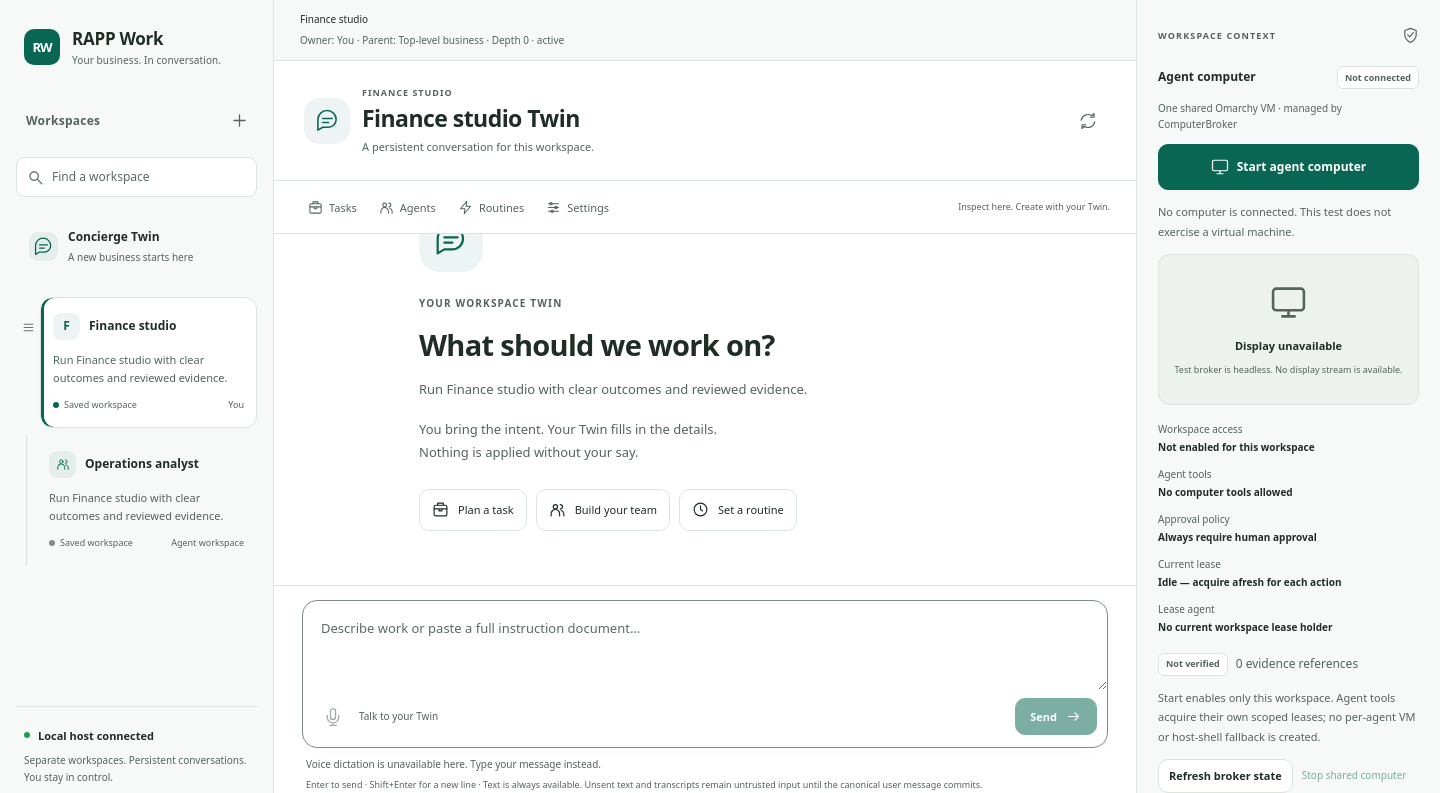
Scenario: conversation-first business workspaces › drafts and prefills Create an agent for finance reviews.
(page scrolled)
Expected: the text "Local host connected" is shown, x1=38 y1=727 x2=154 y2=744
In the text box named "Message your Work Twin": (705, 645) x1=303 y1=601 x2=1107 y2=690, type "Create an agent for finance reviews."
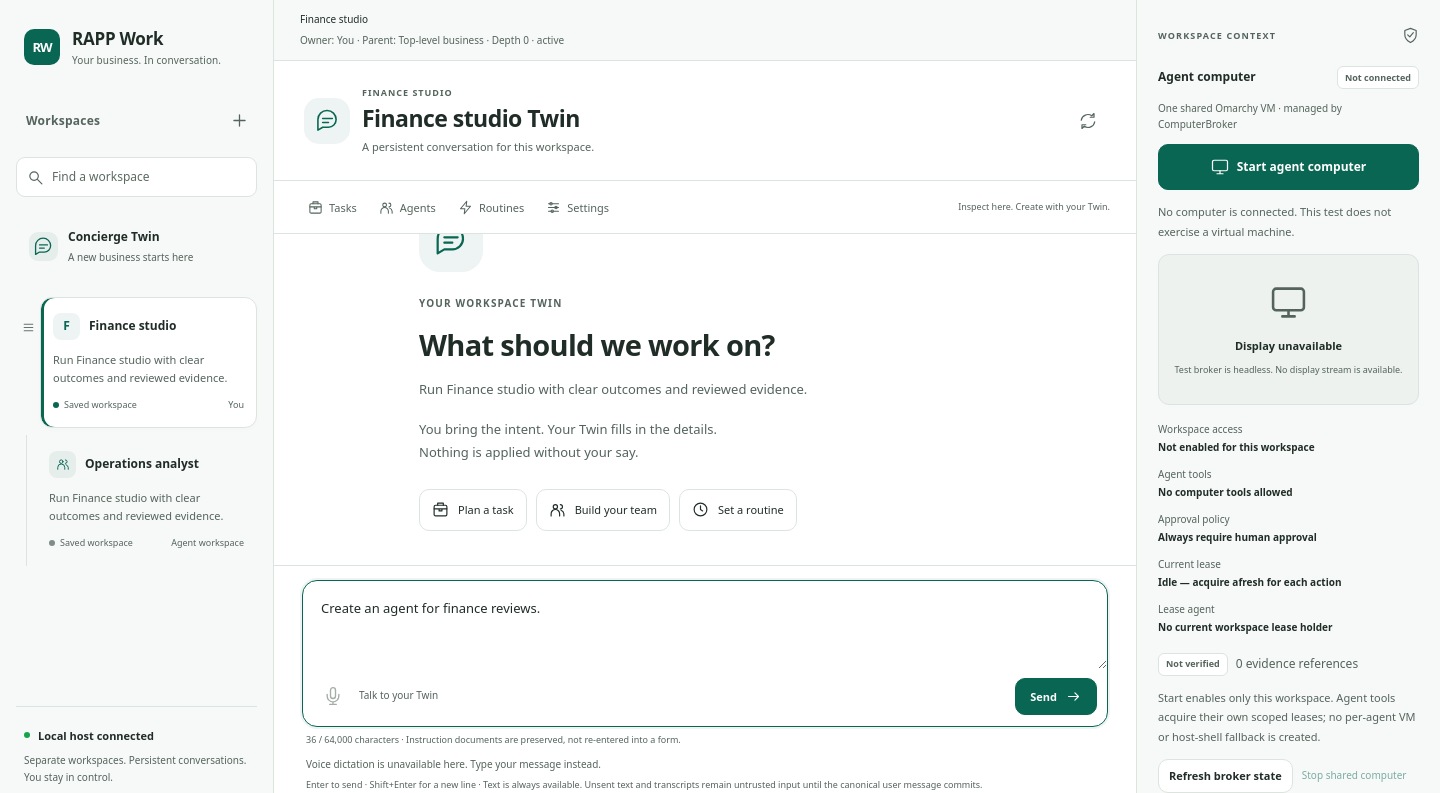
Expected: the button "Send" is enabled
Click the button "Send": (1056, 696) x1=1015 y1=678 x2=1097 y2=715
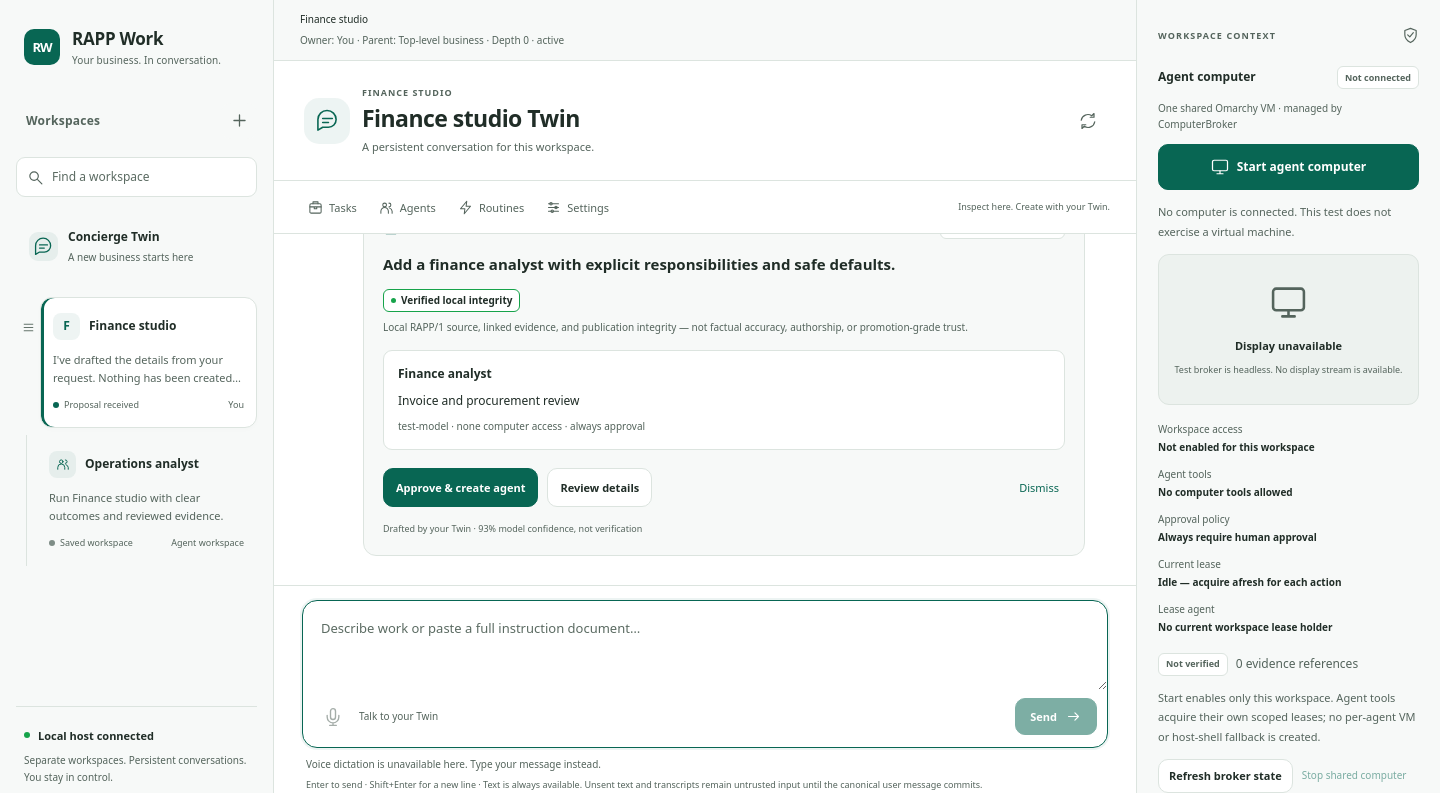
Click the button "Review details": (600, 488) x1=547 y1=468 x2=652 y2=507
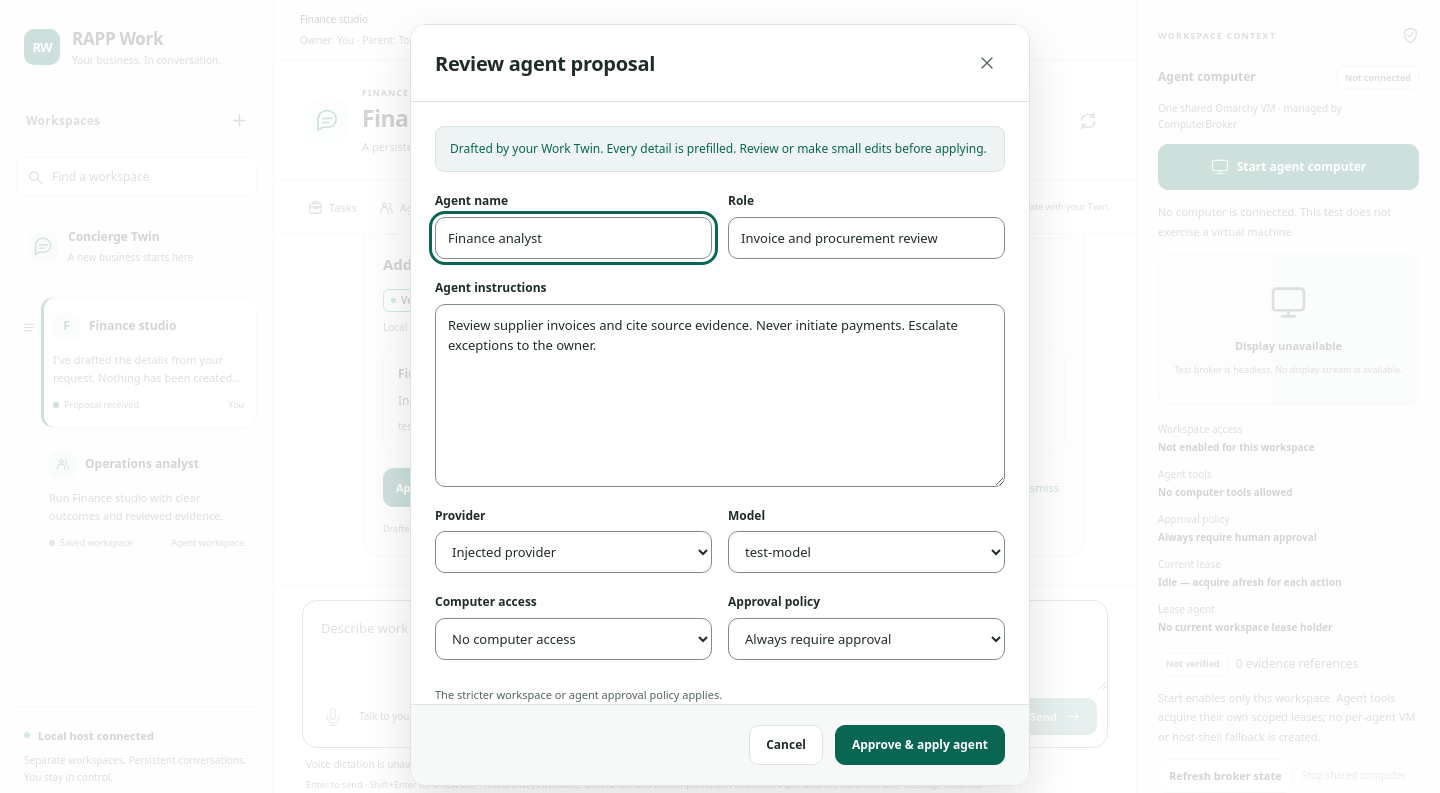
Expected: the field labelled "Agent name" holds "Finance analyst", x1=435 y1=217 x2=712 y2=259
Expected: the field labelled "Agent name" is not empty, x1=435 y1=217 x2=712 y2=259
Expected: the text box labelled "Agent instructions" is not empty, x1=435 y1=304 x2=1005 y2=487
Click the button "Approve & apply agent": (920, 745) x1=835 y1=724 x2=1005 y2=765
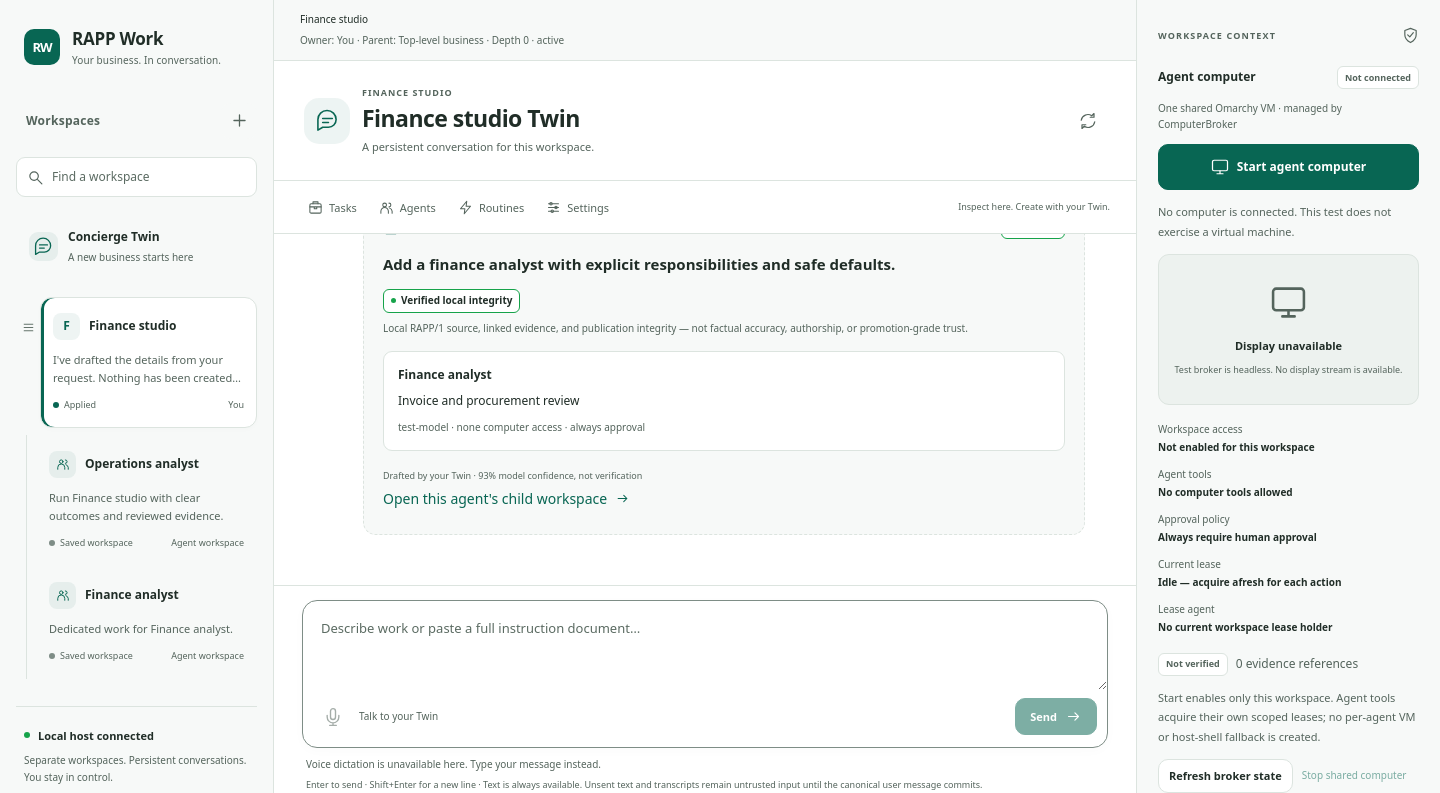
Expected: the dialog is gone
